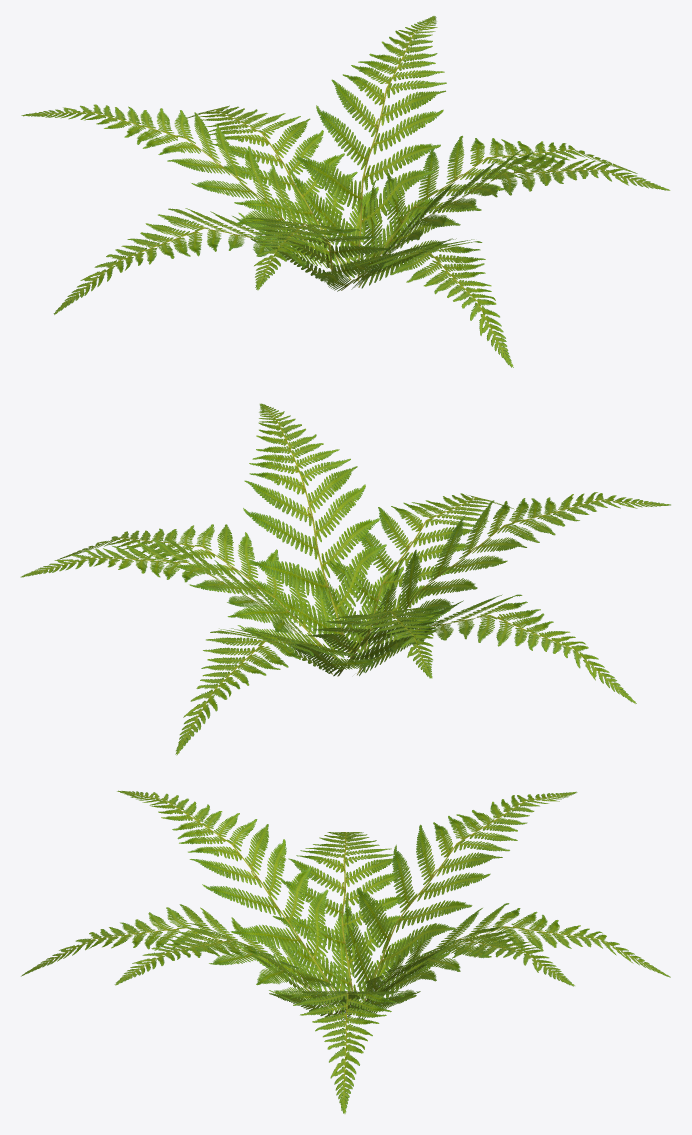
Rendered from Farn01.fbx.
3 views of the same model, one above another, from view 1: azimuth 30°, elevation 25°; view 2: azimuth 150°, elevation 25°; view 3: azimuth 270°, elevation 25° (orthographic). The views are drawn at different scales.
Parts seen in each view (by area): view 1: Plane_003; view 2: Plane_003; view 3: Plane_003.
Part boxes in pixels (x1,y1,x2,y2): Plane_003: [21, 16, 670, 367]; Plane_003: [20, 403, 670, 755]; Plane_003: [21, 790, 670, 1113].
Bounding box in the file's own units: 593 × 145 × 593.
